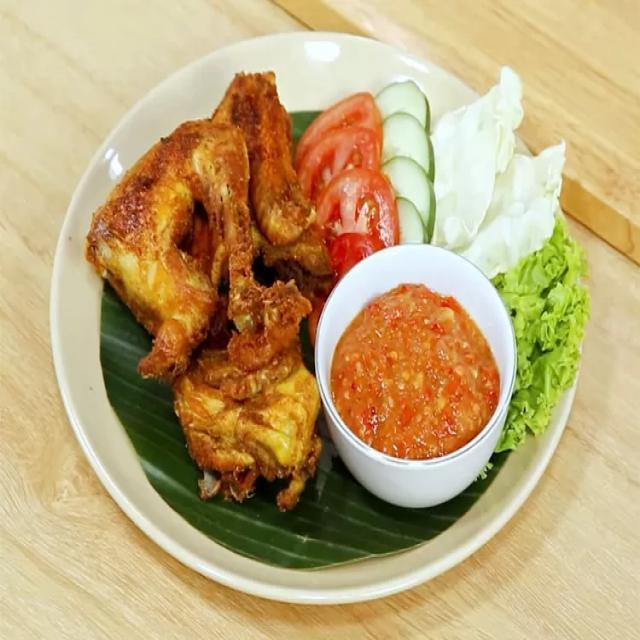ayam_goreng: (90, 88, 337, 516)
